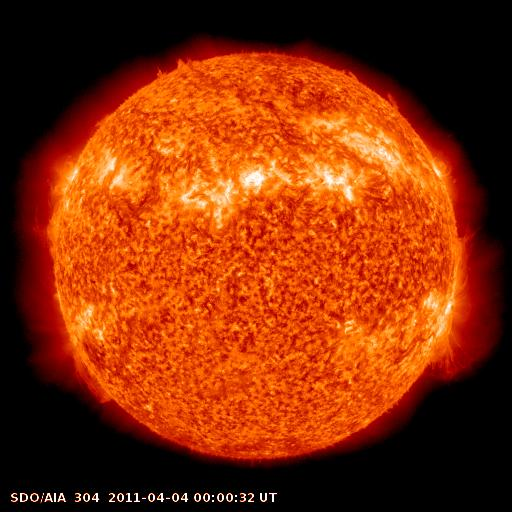prominence: (323, 64, 403, 115), (21, 194, 80, 263), (65, 339, 121, 409), (444, 229, 482, 283), (148, 52, 206, 82)
